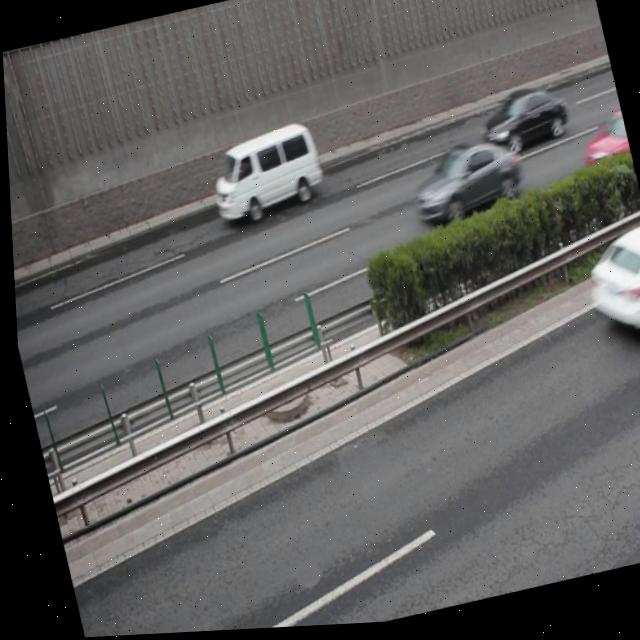car: (404, 137, 526, 233), (574, 233, 640, 348), (476, 88, 569, 163), (571, 111, 631, 180)
truck: (202, 126, 323, 228)
